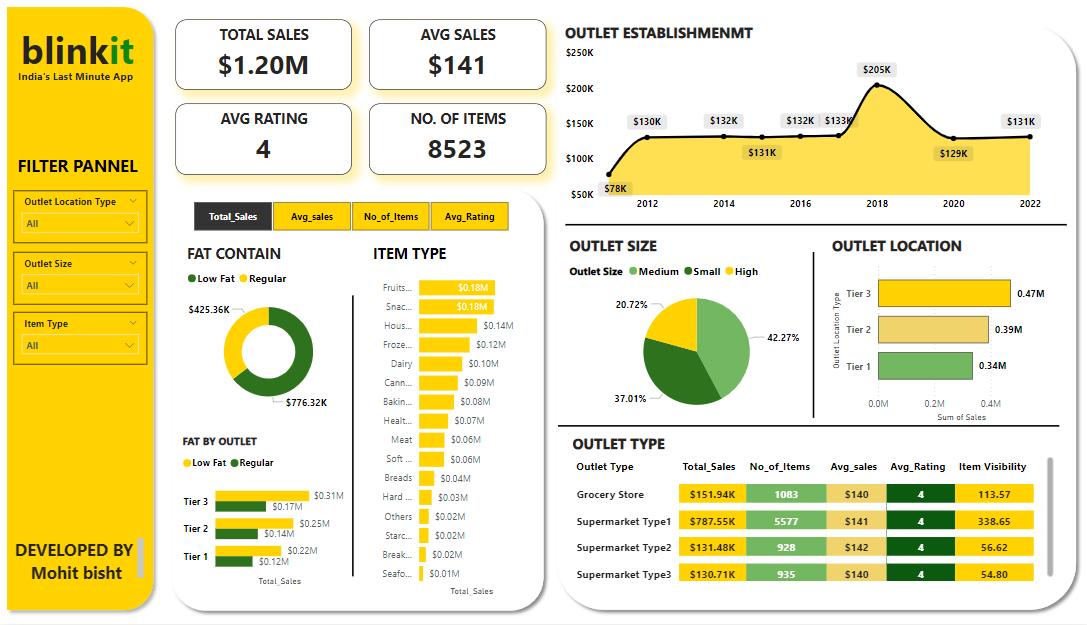

Layout of this report page (visuals, bound fields, positions):
{"tool":"powerbi","page":{"name":"Page 1","canvas":[1400,800],"ordinal":0},"visuals":[{"type":"shape","box":[0,0,205.7,791.4],"z":0},{"type":"textbox","box":[12.9,24.3,171.4,75.7],"z":1000},{"type":"textbox","box":[14.3,82.9,167.1,32.9],"z":2000},{"type":"card","title":"TOTAL SALES","fields":{"Values":["Blinkit.Total_Sales"]},"box":[224.3,24.3,225.7,90],"z":3000},{"type":"card","title":"AVG SALES","fields":{"Values":["Blinkit.Avg_sales"]},"box":[472.9,24.3,227.1,90],"z":4000},{"type":"card","title":"AVG RATING","fields":{"Values":["Blinkit.Avg_Rating"]},"box":[225.7,132.9,225.7,91.4],"z":5000},{"type":"card","title":"NO. OF ITEMS","fields":{"Values":["Blinkit.No_of_Items"]},"box":[472.9,132.9,227.1,91.4],"z":6000},{"type":"shape","box":[211.4,234.3,494.3,557.1],"z":7000},{"type":"donutChart","title":"FAT CONTAIN","fields":{"Y":["Blinkit.Total_Sales"],"Category":["Blinkit.Item Fat Content"]},"box":[234.3,311.4,218.6,224.3],"z":8000},{"type":"slicer","fields":{"Values":["Metrics.Metrics"]},"box":[222.9,252.9,452.9,50],"z":9000},{"type":"clusteredBarChart","title":"FAT BY OUTLET","fields":{"Y":["Blinkit.Total_Sales"],"Category":["Blinkit.Outlet Location Type"],"Series":["Blinkit.Item Fat Content"]},"box":[228.6,555.7,217.1,200],"z":10000},{"type":"shape","box":[446.2,378.8,12.5,360],"z":11000},{"type":"barChart","title":"ITEM TYPE","fields":{"Y":["Blinkit.Total_Sales"],"Category":["Blinkit.Item Type"]},"box":[472.9,311.4,204.3,457.1],"z":12000},{"type":"shape","box":[705.7,24.3,682.9,765.7],"z":13000},{"type":"lineChart","title":"OUTLET ESTABLISHMENMT","fields":{"Category":["Blinkit.Outlet Establishment Year"],"Y":["Blinkit.Total_Sales"]},"box":[720,28.6,620,250],"z":14000},{"type":"shape","box":[725.7,272.9,642.9,30],"z":15000},{"type":"pieChart","title":"OUTLET SIZE","fields":{"Y":["Blinkit.Total_Sales"],"Category":["Blinkit.Outlet Size"]},"box":[725.7,302.9,335.7,242.9],"z":16000},{"type":"shape","box":[1035.7,322.9,12.9,212.9],"z":17000},{"type":"clusteredBarChart","title":"OUTLET LOCATION","fields":{"Category":["Blinkit.Outlet Location Type"],"Y":["Sum(Blinkit.Sales)"]},"box":[1061.4,302.9,297.1,242.9],"z":18000},{"type":"shape","box":[715.7,528.6,642.9,34.3],"z":19000},{"type":"pivotTable","title":"OUTLET TYPE","fields":{"Rows":["Blinkit.Outlet Type"],"Values":["Blinkit.Total_Sales","Blinkit.No_of_Items","Blinkit.Avg_sales","Blinkit.Avg_Rating","Sum(Blinkit.Item Visibility)"]},"box":[728.6,555.7,627.1,192.9],"z":20000},{"type":"slicer","fields":{"Values":["Blinkit.Outlet Location Type"]},"box":[17.1,244.3,171.4,67.1],"z":21000},{"type":"slicer","fields":{"Values":["Blinkit.Outlet Size"]},"box":[17.1,322.9,171.4,67.1],"z":22000},{"type":"slicer","fields":{"Values":["Blinkit.Item Type"]},"box":[17.1,400,171.4,67.1],"z":23000},{"type":"textbox","box":[17.1,191.4,172.9,42.9],"z":24000},{"type":"textbox","box":[14.3,684.3,175.7,64.3],"z":25000}]}

Visuals, with their boxes in screenshot pixels (x1, y1, x2, y2), scaled from the page's 1400x800 canvas onto the 1087x625 screenshot:
shape: 0, 0, 160, 618
textbox: 10, 19, 143, 78
textbox: 11, 65, 141, 90
"TOTAL SALES" card: 174, 19, 349, 89
"AVG SALES" card: 367, 19, 544, 89
"AVG RATING" card: 175, 104, 350, 175
"NO. OF ITEMS" card: 367, 104, 544, 175
shape: 164, 183, 548, 618
"FAT CONTAIN" donutChart: 182, 243, 352, 419
slicer - Metrics.Metrics: 173, 198, 525, 237
"FAT BY OUTLET" clusteredBarChart: 177, 434, 346, 590
shape: 346, 296, 356, 577
"ITEM TYPE" barChart: 367, 243, 526, 600
shape: 548, 19, 1078, 617
"OUTLET ESTABLISHMENMT" lineChart: 559, 22, 1040, 218
shape: 563, 213, 1063, 237
"OUTLET SIZE" pieChart: 563, 237, 824, 426
shape: 804, 252, 814, 419
"OUTLET LOCATION" clusteredBarChart: 824, 237, 1055, 426
shape: 556, 413, 1055, 440
"OUTLET TYPE" pivotTable: 566, 434, 1053, 585
slicer - Blinkit.Outlet Location Type: 13, 191, 146, 243
slicer - Blinkit.Outlet Size: 13, 252, 146, 305
slicer - Blinkit.Item Type: 13, 312, 146, 365
textbox: 13, 150, 148, 183
textbox: 11, 535, 148, 585
